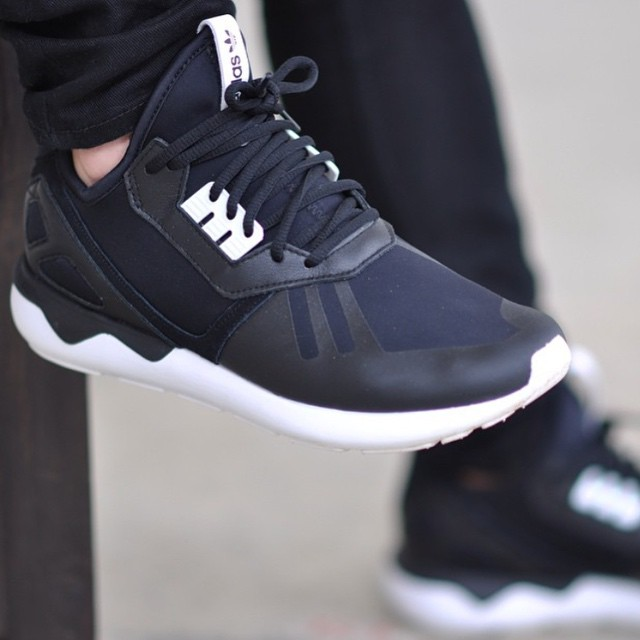sneaker: (4, 1, 601, 480), (358, 344, 640, 638)
